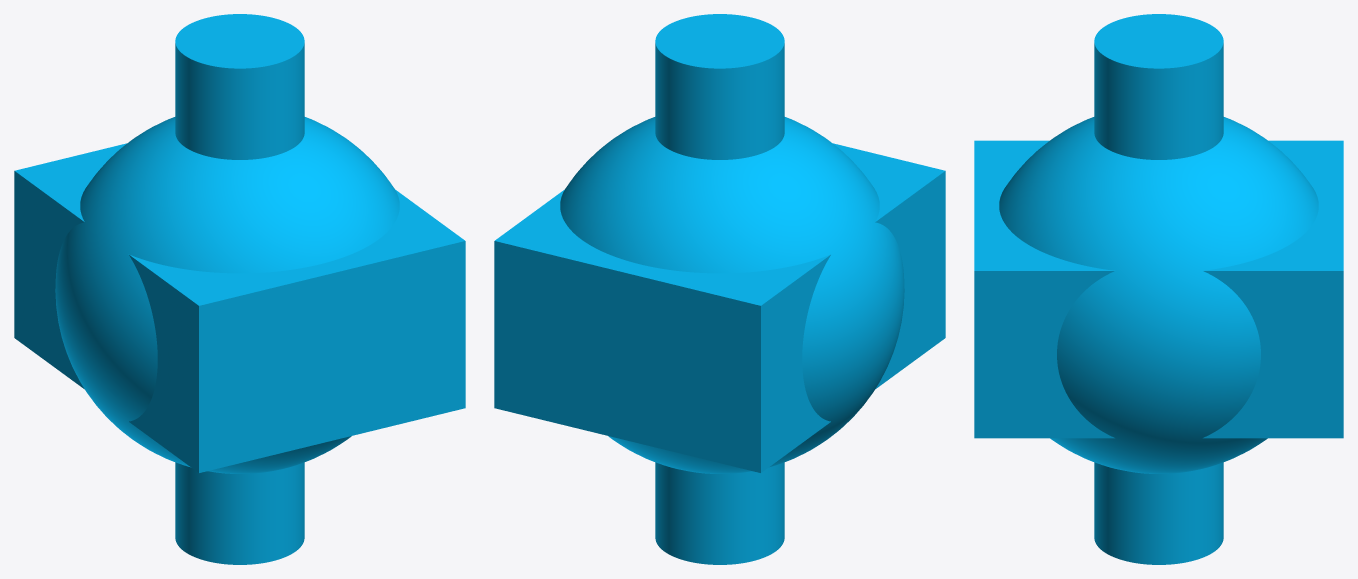
Rendered from workplane-8.gltf.
The picture shows the model from 3 angles, left to right: view 1: azimuth 30°, elevation 25°; view 2: azimuth 150°, elevation 25°; view 3: azimuth 270°, elevation 25°; orthographic projection.
Parts seen in each view (by area): view 1: Gövde; view 2: Gövde; view 3: Gövde.
Part boxes in pixels (x1=…): Gövde: x1=14, y1=14, x2=465, y2=564; Gövde: x1=494, y1=14, x2=945, y2=564; Gövde: x1=974, y1=14, x2=1343, y2=564.
Bounding box in the file's own units: 0.03 × 0.0445 × 0.03.
